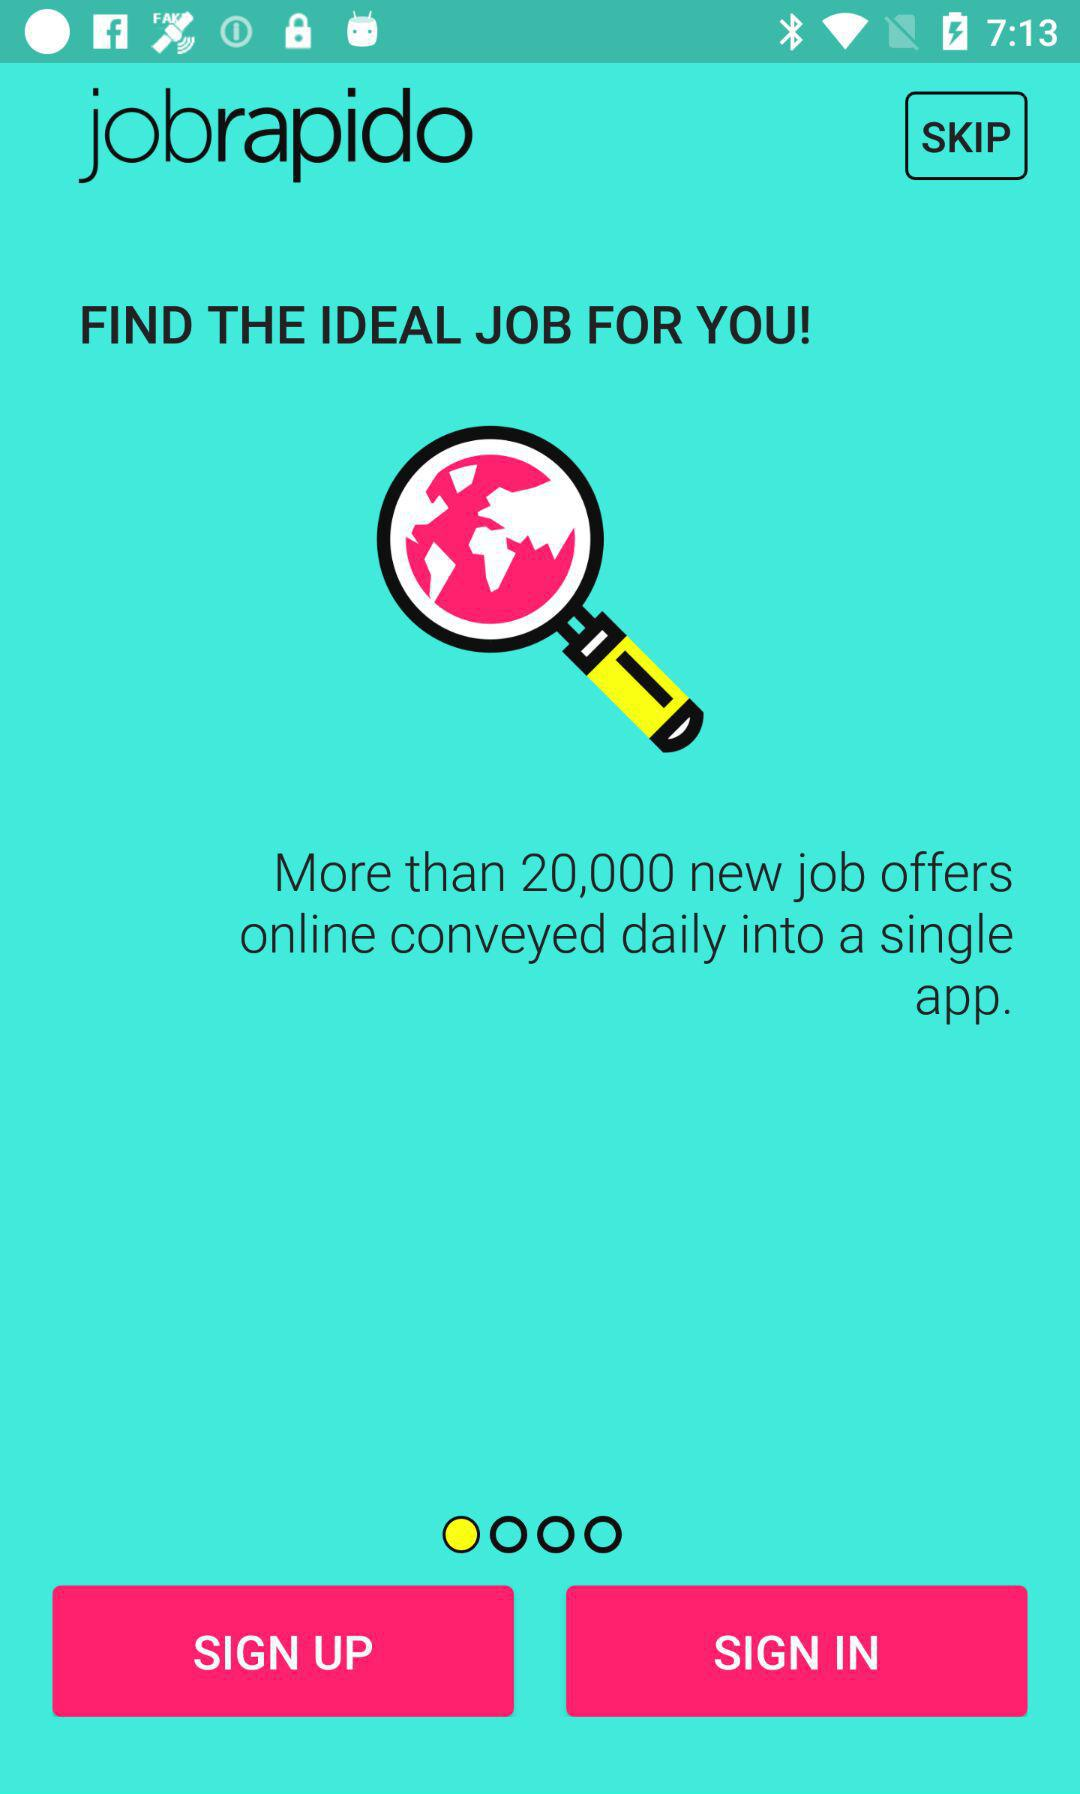Image: (375, 425, 706, 755)
PageIndicator: (441, 1513, 624, 1554)
Text: (240, 851, 1013, 1026), (79, 87, 474, 185), (82, 306, 810, 346)
TextButton: (53, 1585, 515, 1717), (566, 1585, 1029, 1717), (904, 92, 1029, 182)
UpperTaskBar: (1, 1, 1080, 64)
